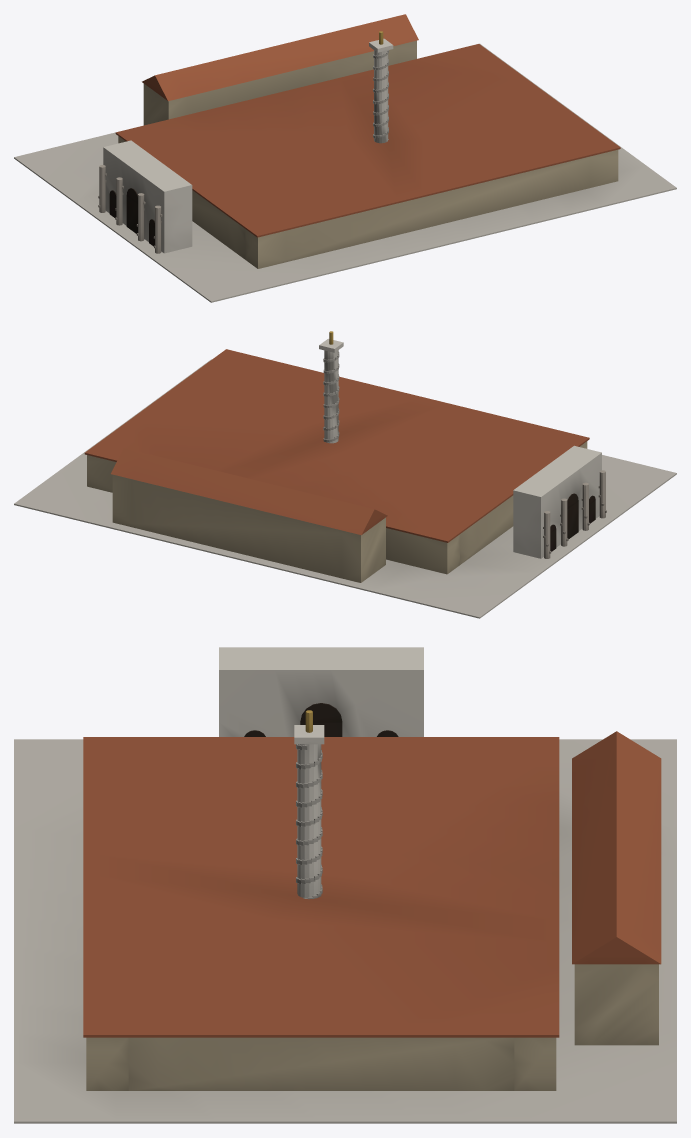
The model's file is forum-of-theodosius.glb.
3 views of the same model, one above another, from view 1: azimuth 30°, elevation 25°; view 2: azimuth 150°, elevation 25°; view 3: azimuth 270°, elevation 25° (orthographic). The views are drawn at different scales.
Parts seen in each view (by area): view 1: p0_colonnades, p1_arch, p2_column; view 2: p0_colonnades, p1_arch, p2_column; view 3: p0_colonnades, p1_arch, p2_column.
Part boxes in pixels (x1,y1,x2,y2): p0_colonnades: (14, 43, 676, 302); p1_arch: (98, 14, 418, 253); p2_column: (369, 31, 393, 143); p0_colonnades: (14, 349, 676, 618); p1_arch: (111, 445, 606, 582); p2_column: (319, 331, 343, 443); p0_colonnades: (14, 737, 676, 1123); p1_arch: (219, 647, 661, 1045); p2_column: (294, 710, 324, 899).
Bounding box in the file's own units: 150 × 44.2 × 110.
